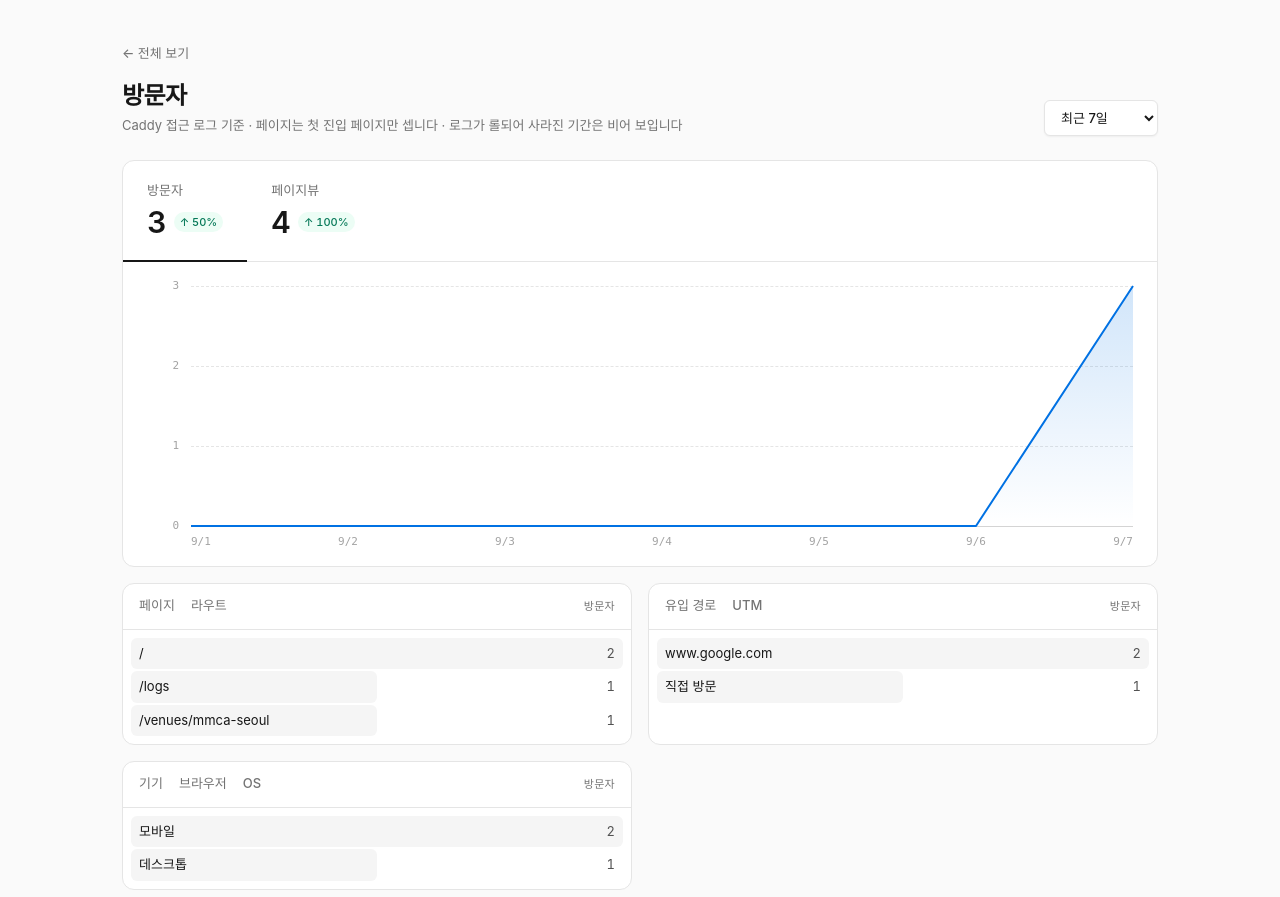
Test: VisitorsPage › filters everything by a clicked row and puts the filter in the URL
What coordinates should you click on to do the following:
click the text "모바일"
I would click on:
 (157, 831)
Its box is [139, 822, 175, 841].
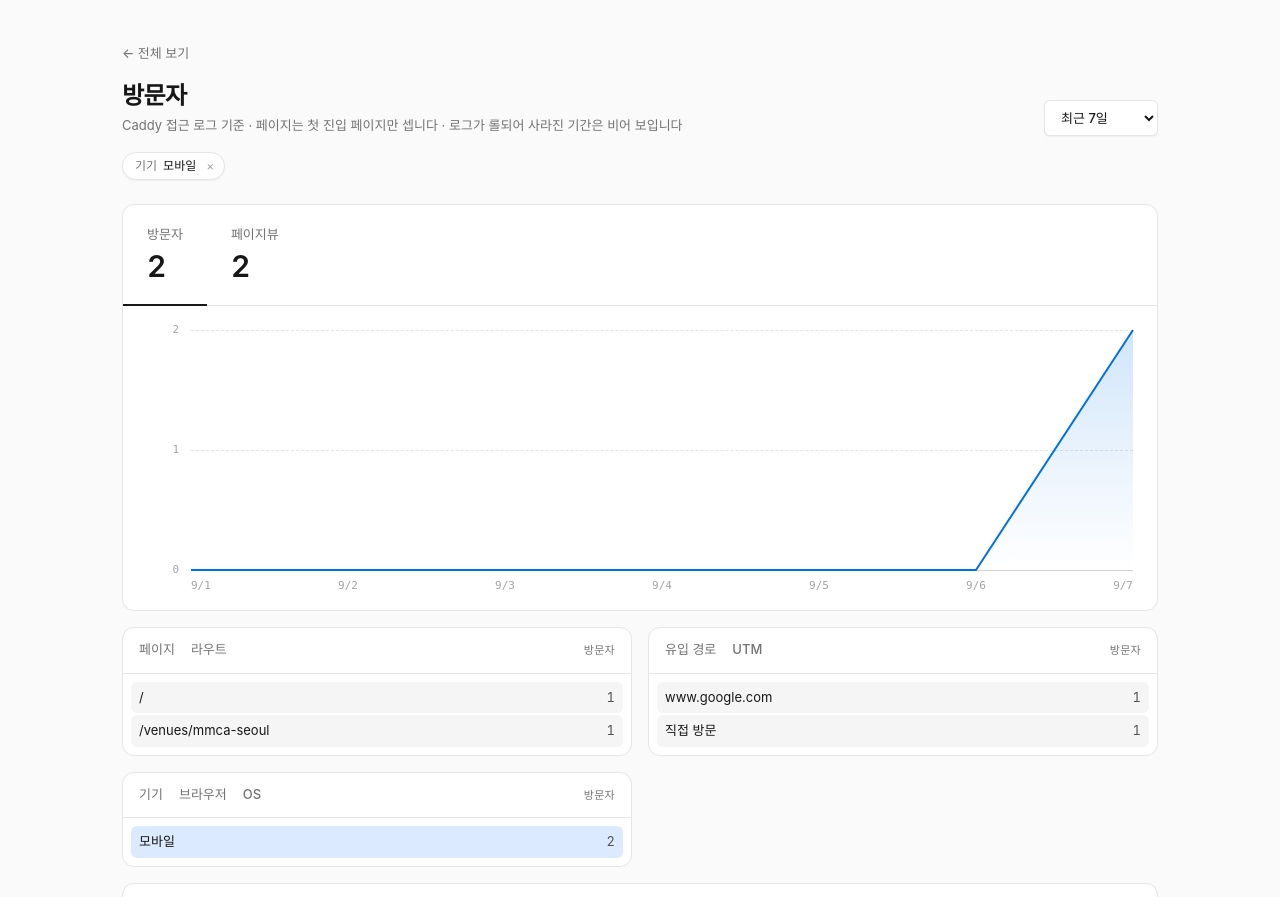
Now the button "방문자 2" is shown, box [123, 204, 207, 306]
Now the button "페이지뷰 2" is shown, box [207, 204, 303, 306]
Now the button "/logs" is gone
What coordinates should you click on to do the following:
click the button named "기기 필터 해제"
I would click on:
 (210, 166)
Its box is [202, 156, 218, 174].
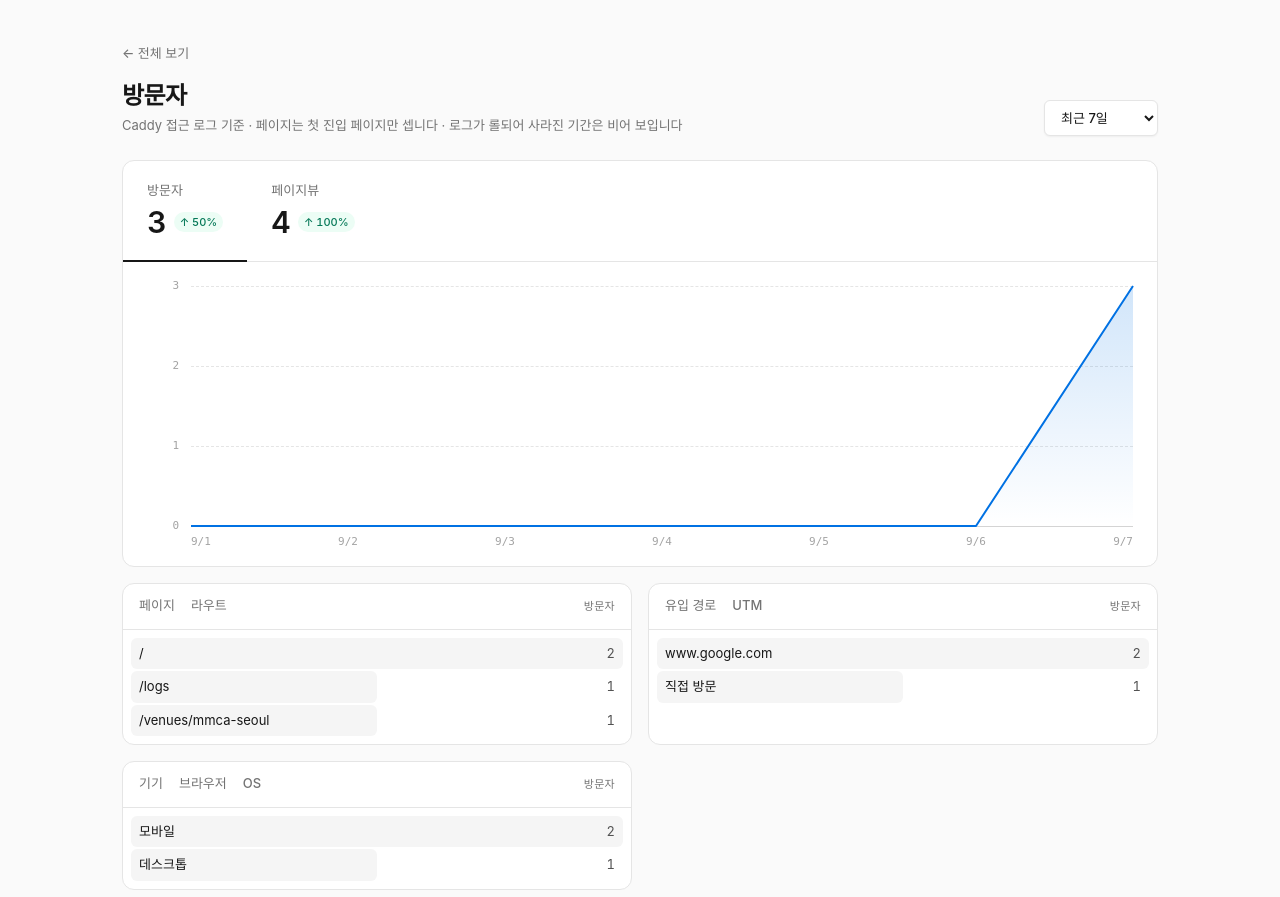
Now the button "페이지뷰 4 ↑ 100%" is shown, box [247, 160, 379, 262]
